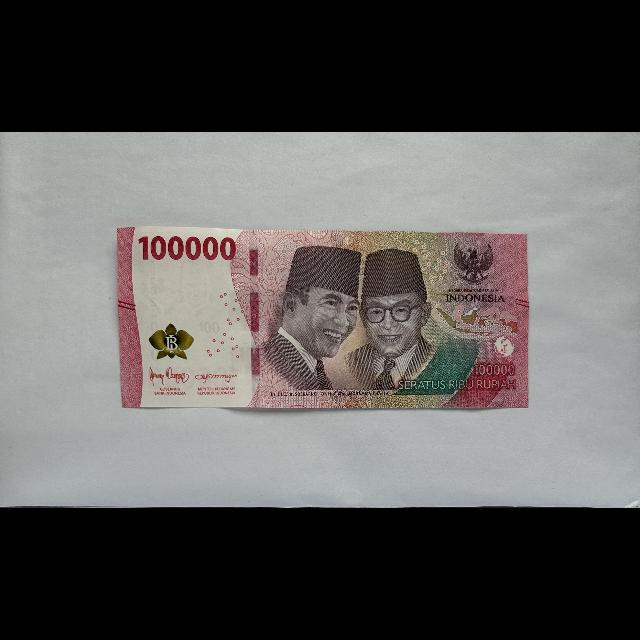Asli-100k: (116, 225, 530, 411)
Tinta-Asli-100k: (148, 322, 195, 360)
